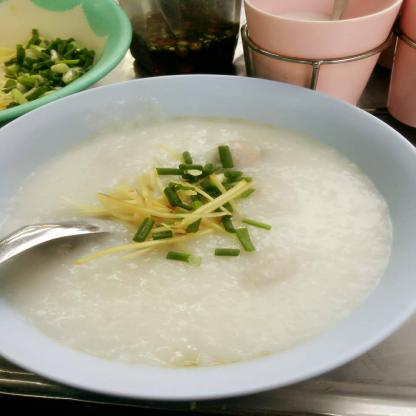Joke: (7, 110, 407, 380)
